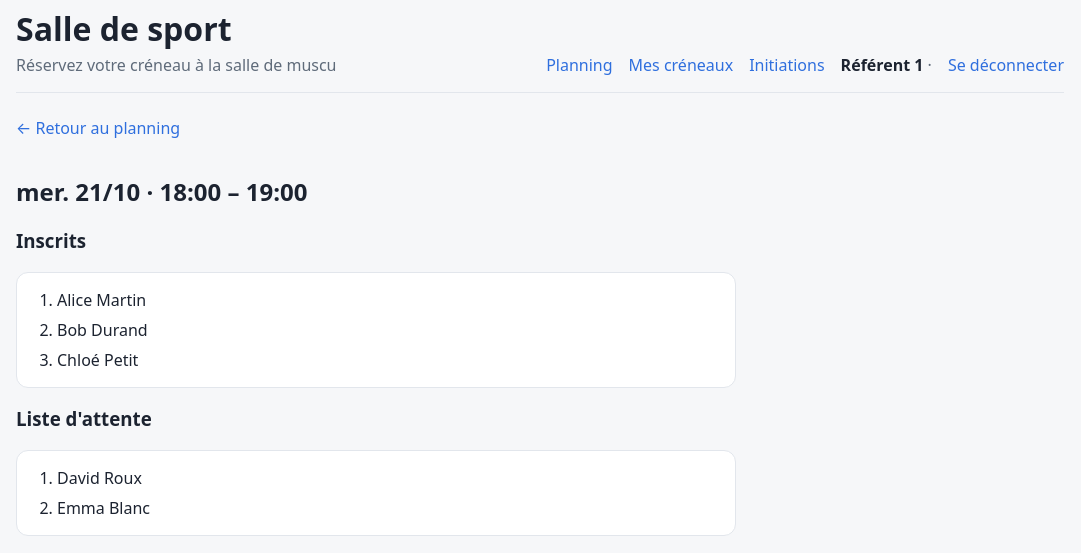
it: ReferentSlotPage › goes back to the planning
The width and height of the screenshot is (1081, 553).
Check: the list item "Alice Martin" is shown, box top-left (57, 288), bottom-right (146, 310)
Click the link "← Retour au planning".
click(98, 128)  # box top-left (16, 117), bottom-right (180, 139)
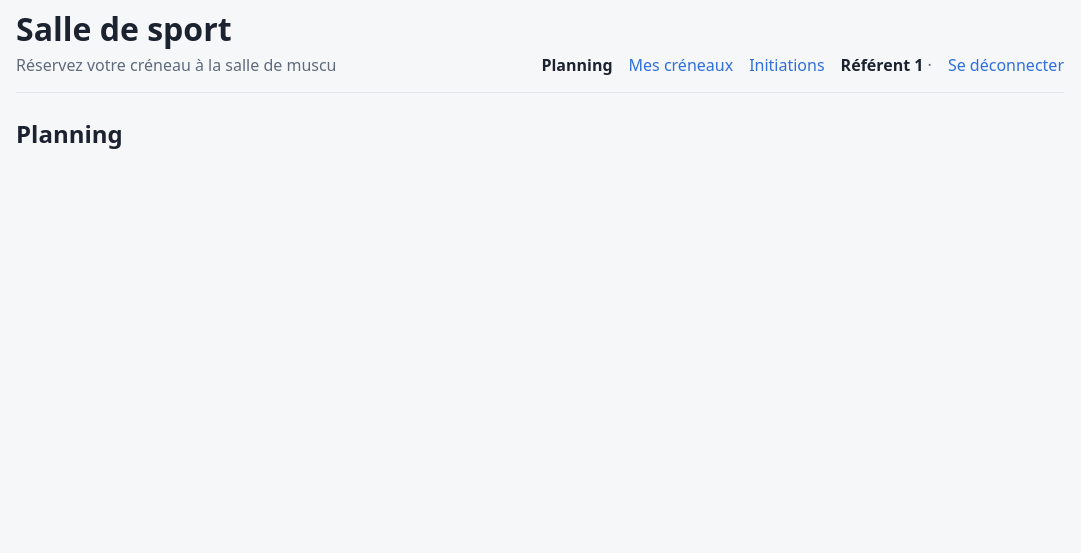
Check: the heading "Planning" is shown, box top-left (16, 117), bottom-right (123, 150)
